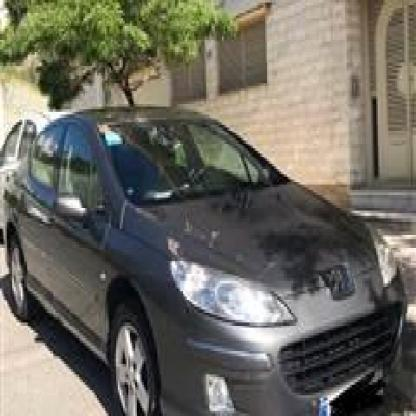Car: (0, 96, 399, 416)
